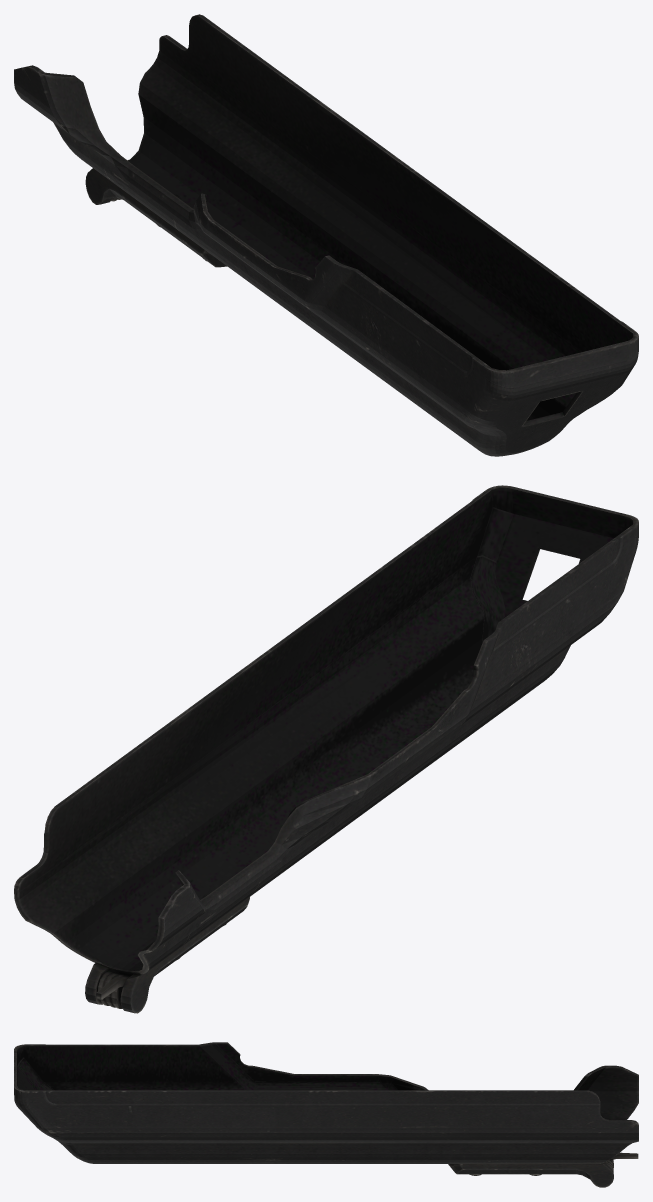
3 renders of one model, top to bottom at view 1: azimuth 30°, elevation 25°; view 2: azimuth 150°, elevation 25°; view 3: azimuth 270°, elevation 25°, orthographic. The views are drawn at different scales.
Visible parts, largest first — view 1: TW_59985a8086f77414ec448d1a_PZ_Import; view 2: TW_59985a8086f77414ec448d1a_PZ_Import; view 3: TW_59985a8086f77414ec448d1a_PZ_Import.
Part boxes in pixels (box(x1,y1,x2,y2)): TW_59985a8086f77414ec448d1a_PZ_Import: box(14, 14, 638, 456); TW_59985a8086f77414ec448d1a_PZ_Import: box(14, 485, 638, 1013); TW_59985a8086f77414ec448d1a_PZ_Import: box(14, 1042, 638, 1187).
Bounding box in the file's own units: 0.0224 × 0.1196 × 0.0237.
1 material, 1 textured.
